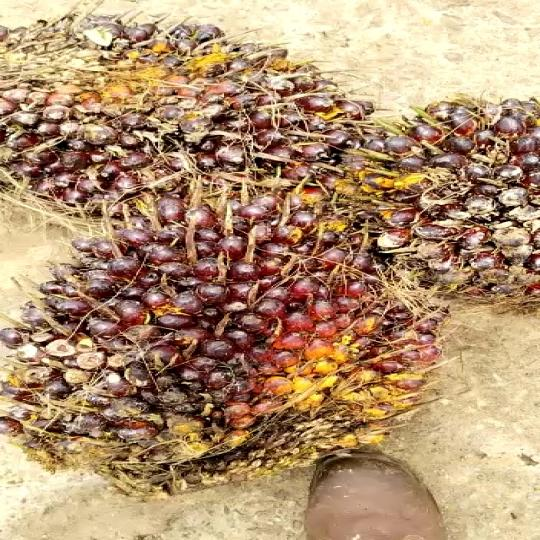kurang masak: (0, 216, 448, 503), (0, 7, 356, 218), (369, 75, 540, 324)
